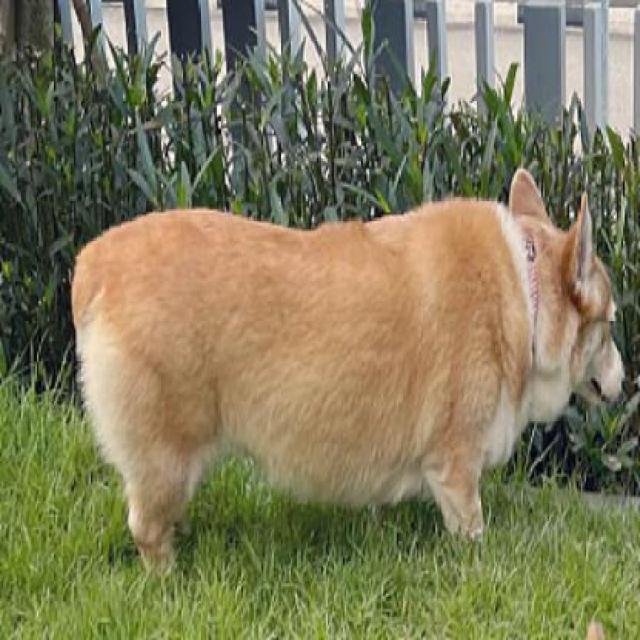Dog: (65, 166, 632, 602)
